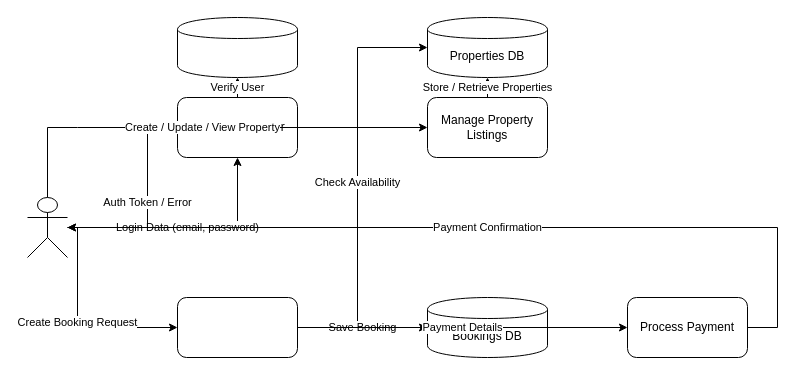
Some shapes in this 803 by 375 pixel diagram are drawn without their labels. Here are the shapes that lost their labels. From the top down, the centre of each, then its label:
[237,47]: Users DB
[47,227]: User
[237,327]: Handle Booking
